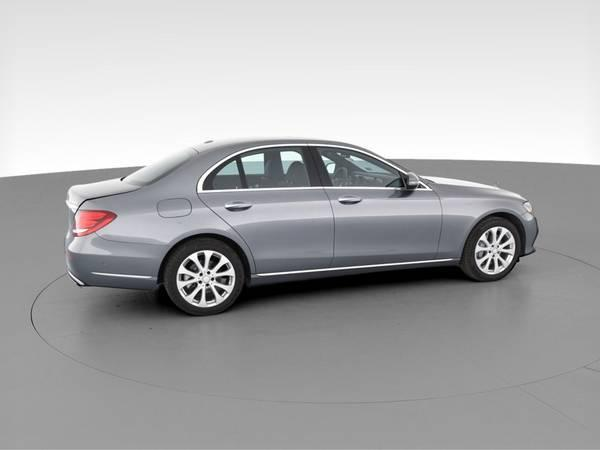Front_Bumper: (519, 213, 538, 255)
Front_Fender: (429, 186, 529, 267)
Front_Right_Door: (325, 188, 447, 274)
Front_Right_Window: (304, 148, 427, 194)
Rear_Bumper: (66, 229, 171, 289)
Rear_Fender: (78, 189, 226, 248)
Rear_Right_Door: (199, 188, 337, 287)
Rear_Right_Window: (195, 145, 322, 192)
Rear_Windshield: (118, 148, 195, 190)
Right_Headlight: (520, 200, 533, 215)
Right_Taillight: (70, 210, 117, 239)
Roof: (147, 136, 429, 192)
Tailgate: (63, 179, 140, 230)
Wheel: (162, 239, 246, 318), (462, 218, 523, 282)
